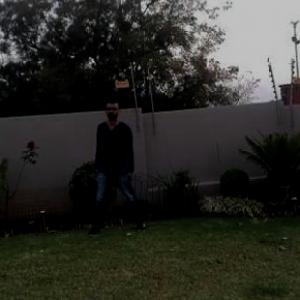follow: (98, 97, 146, 243)
